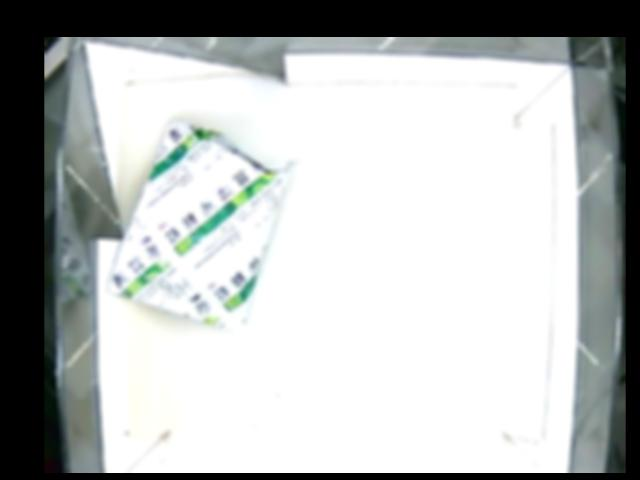Medicine: (107, 115, 302, 334)
